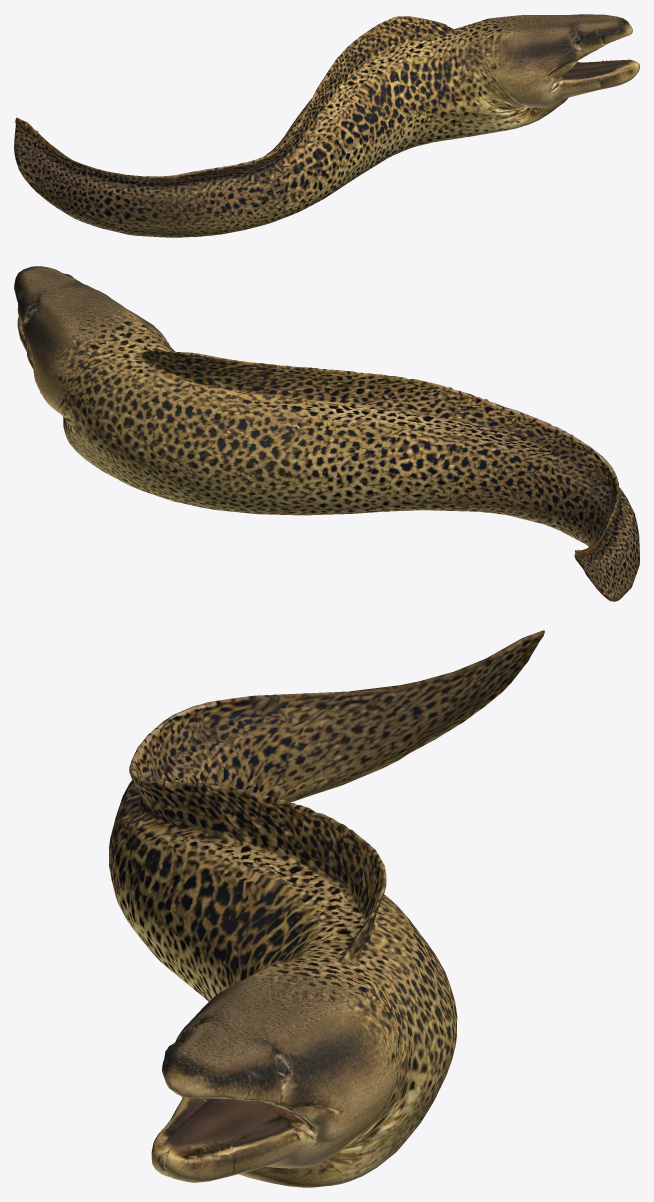
File: moray.glb
3 renders of one model, top to bottom at view 1: azimuth 30°, elevation 25°; view 2: azimuth 150°, elevation 25°; view 3: azimuth 270°, elevation 25°, orthographic. The views are drawn at different scales.
Visible parts, largest first — view 1: tripo_node_048dc898-879f-4aa6-aef7-cd55f154a407; view 2: tripo_node_048dc898-879f-4aa6-aef7-cd55f154a407; view 3: tripo_node_048dc898-879f-4aa6-aef7-cd55f154a407.
Part boxes in pixels (bbox=[...]): tripo_node_048dc898-879f-4aa6-aef7-cd55f154a407: bbox=[14, 14, 639, 237]; tripo_node_048dc898-879f-4aa6-aef7-cd55f154a407: bbox=[14, 266, 639, 601]; tripo_node_048dc898-879f-4aa6-aef7-cd55f154a407: bbox=[109, 630, 544, 1187].
Bounding box in the file's own units: 0.9996 × 0.2093 × 0.3491.
Materials: 1 (1 with a texture image).
